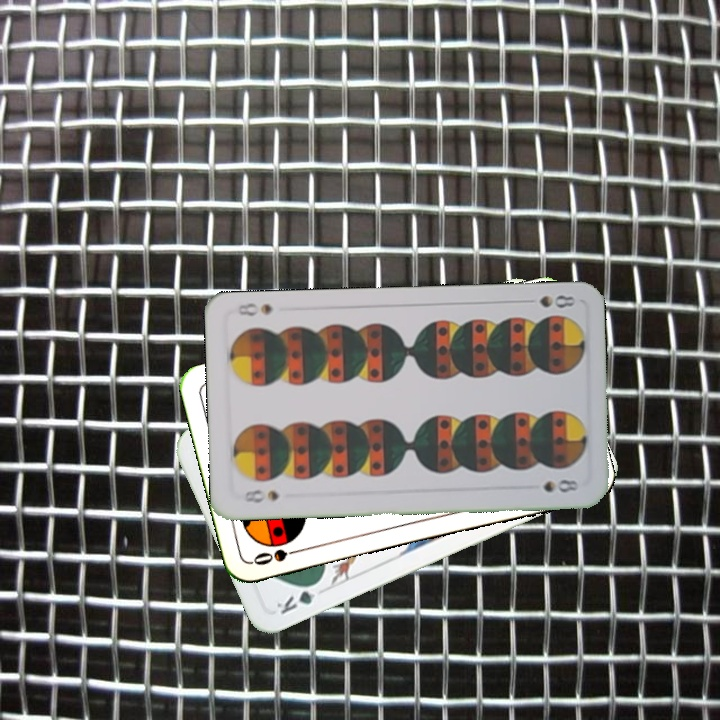GK: (272, 577, 324, 617)
S8: (519, 290, 578, 310), (240, 485, 282, 506)
SO: (249, 543, 307, 568)
